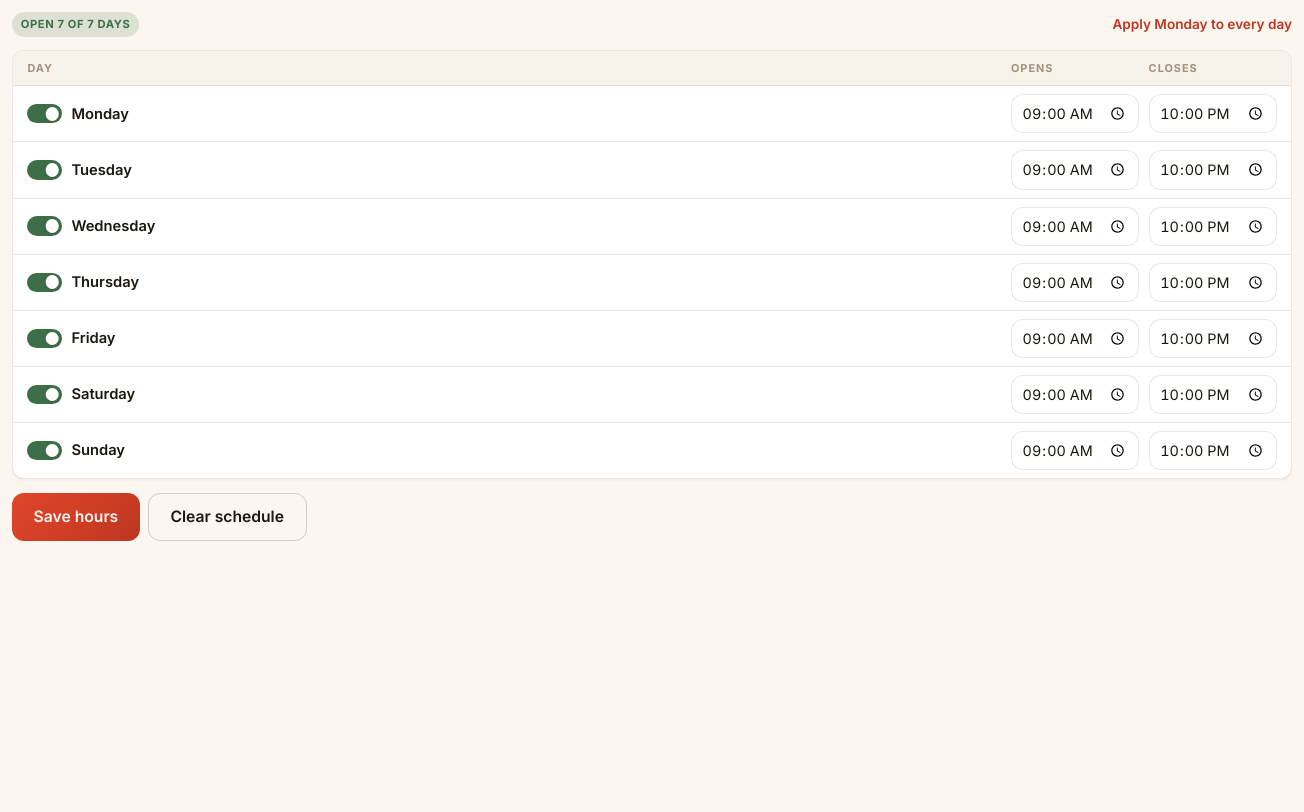
Test case: OpeningHoursPanel › surfaces API errors without reporting success
The width and height of the screenshot is (1304, 812).
Step 1. Click the button "Save hours" → (76, 517), box [12,493,140,541]
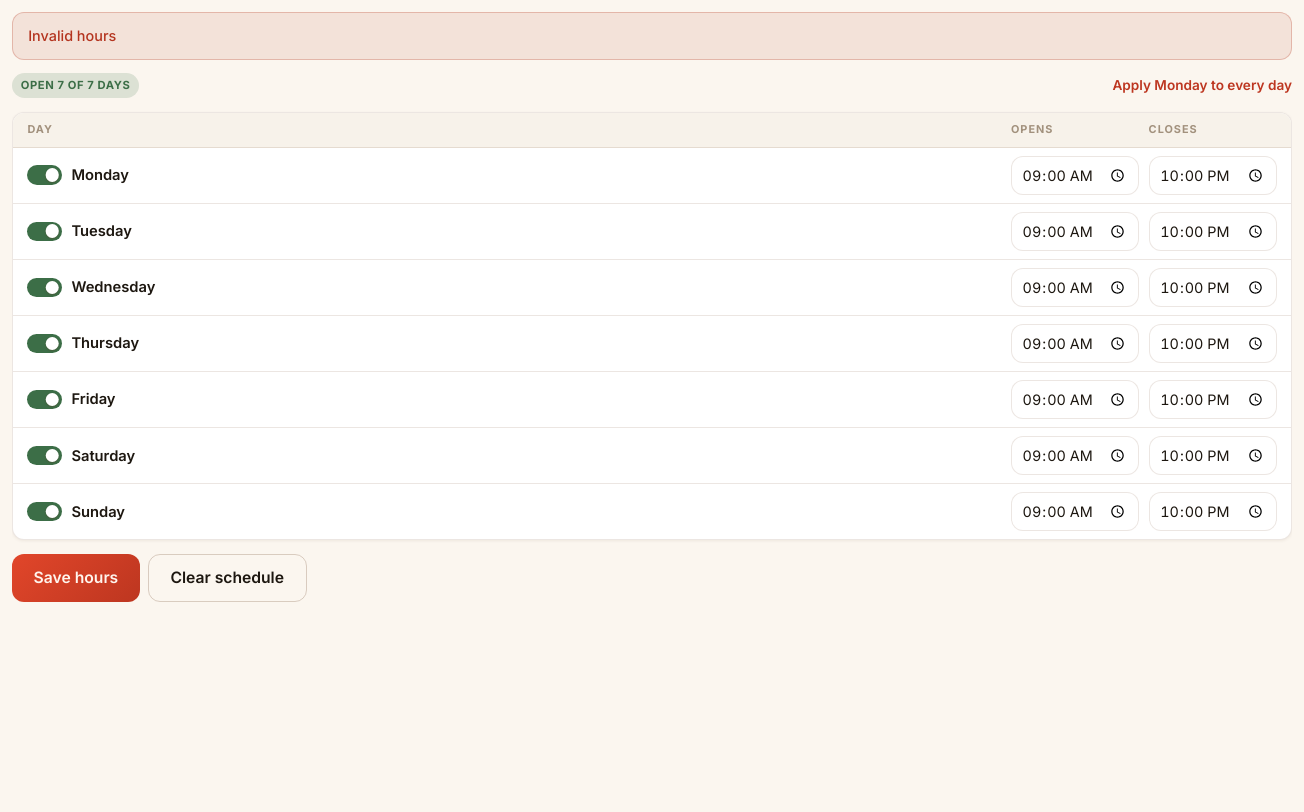
Check: the text "Invalid hours" is shown, box [12,12,1292,60]
